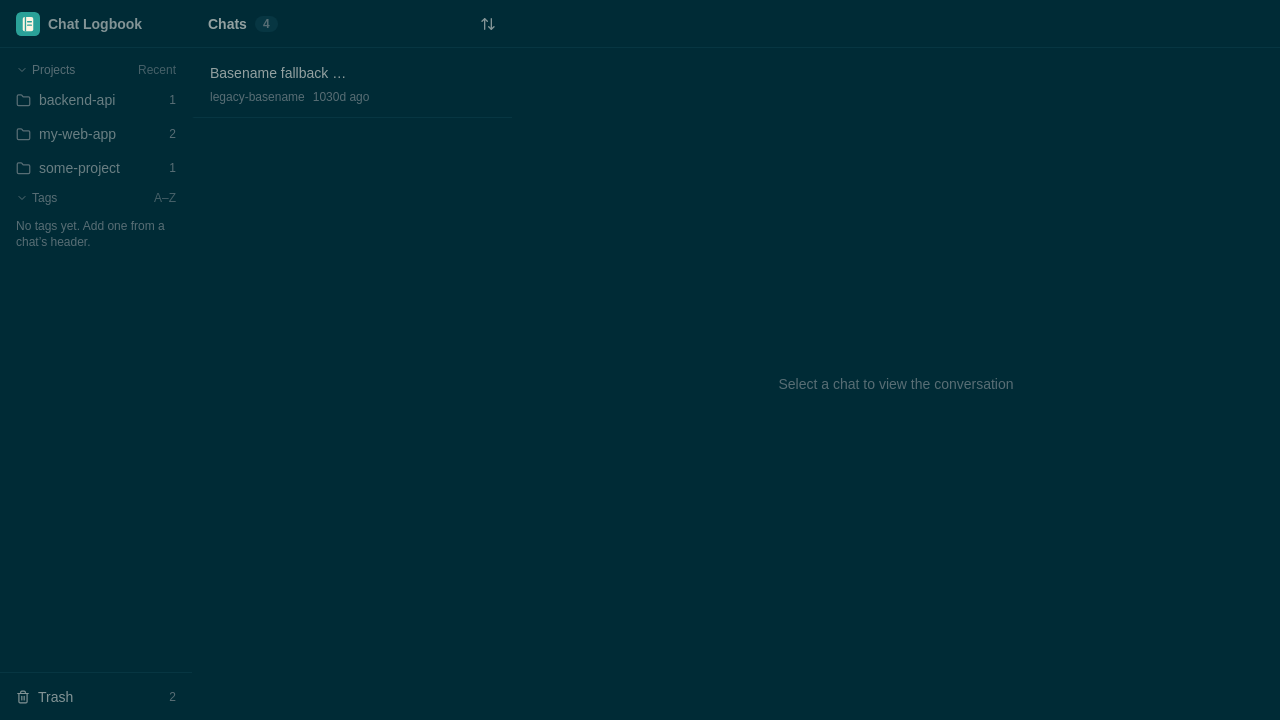
Test case: Chat metadata popover › falls back to project basename when projectPath is null
The image size is (1280, 720).
Click the text "Basename fallback chat" at [278, 73], box [204,61,353,85]
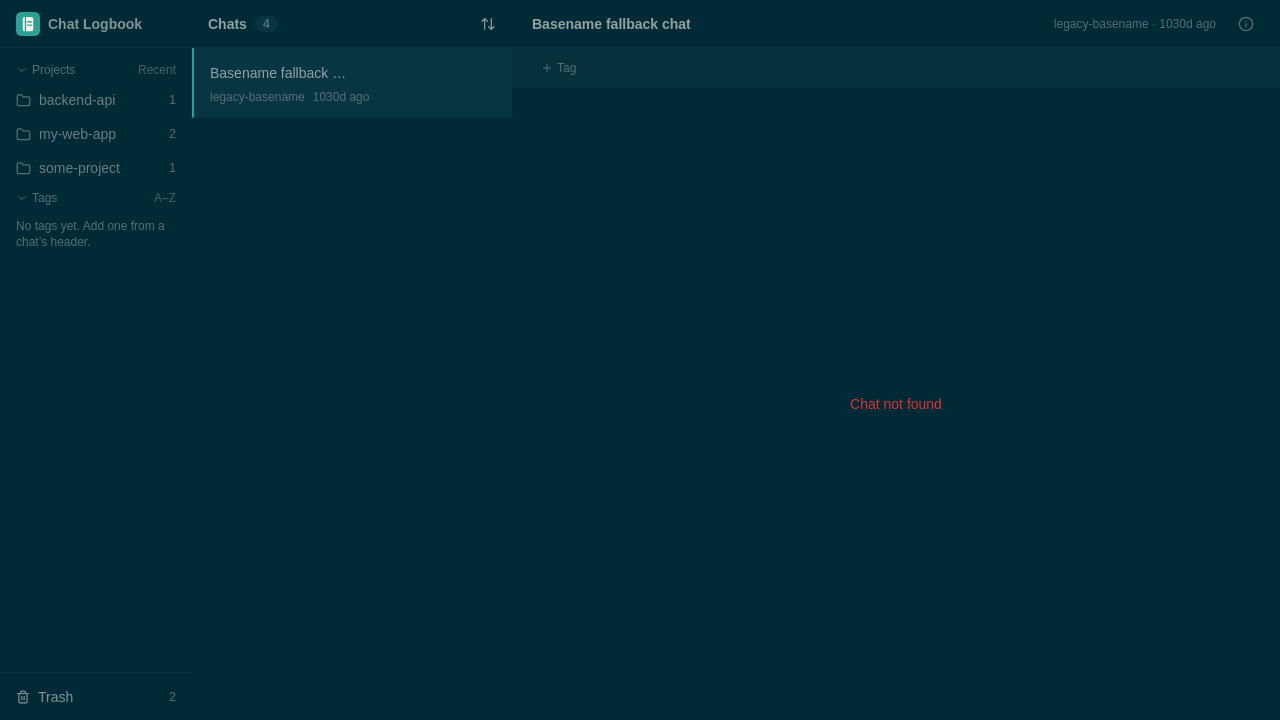
Click the button named "chat info" at [1246, 24], box [1232,10,1260,38]
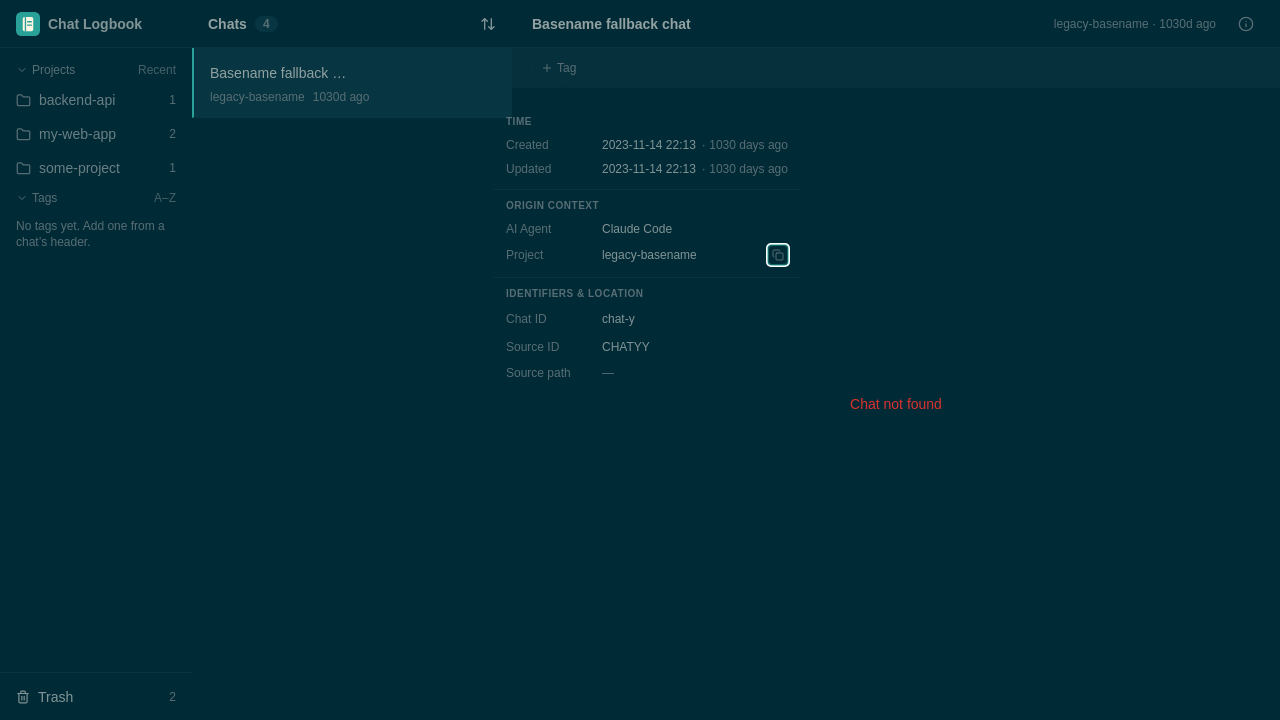
Check: the text "legacy-basename" below "AI Agent" is shown, box [602,248,697,262]
